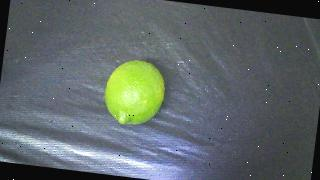LOCAL: (101, 56, 167, 128)
